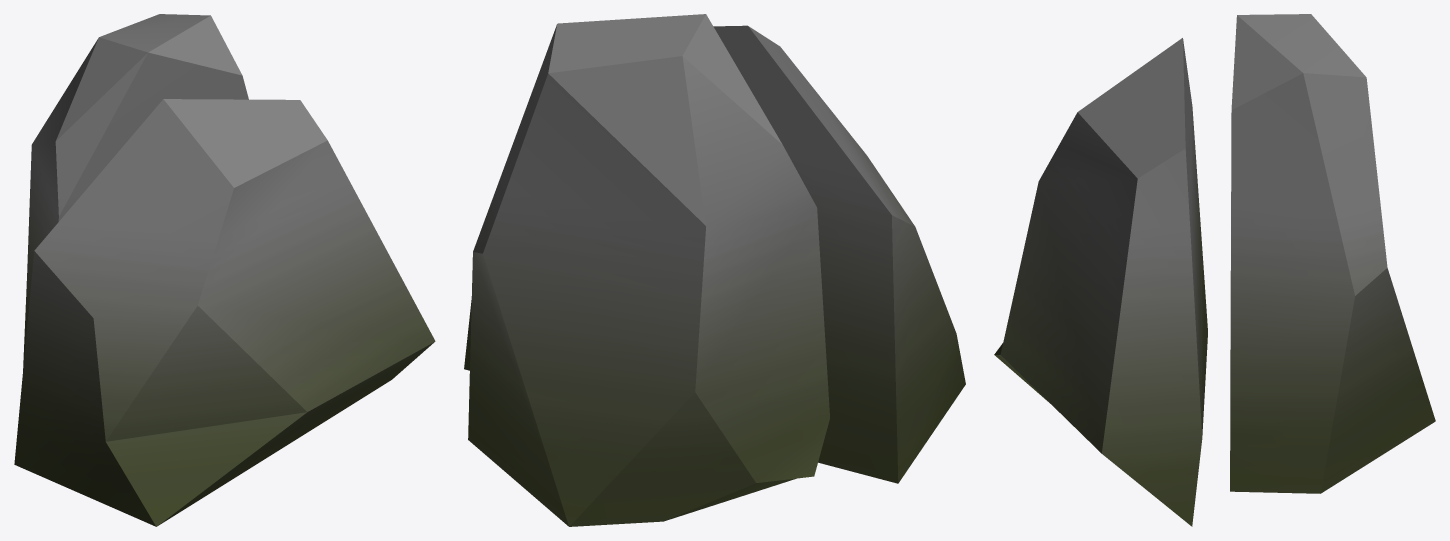
Rendered from ea_environment_stone_moss_01b_pre__19__lev1.glb.
3 renders of one model, left to right at view 1: azimuth 30°, elevation 25°; view 2: azimuth 150°, elevation 25°; view 3: azimuth 270°, elevation 25°, orthographic. The views are drawn at different scales.
Visible parts, largest first — view 1: ea_environment_stone_moss_01b_pre__19__lev1; view 2: ea_environment_stone_moss_01b_pre__19__lev1; view 3: ea_environment_stone_moss_01b_pre__19__lev1.
Boxes of the visible parts, x1,y1,x2,y2 form: ea_environment_stone_moss_01b_pre__19__lev1: (14, 14, 435, 526); ea_environment_stone_moss_01b_pre__19__lev1: (464, 14, 965, 526); ea_environment_stone_moss_01b_pre__19__lev1: (994, 14, 1435, 526).
Size of the model in its own units: 2.07 by 1.95 by 1.98.
1 material, 1 textured.
